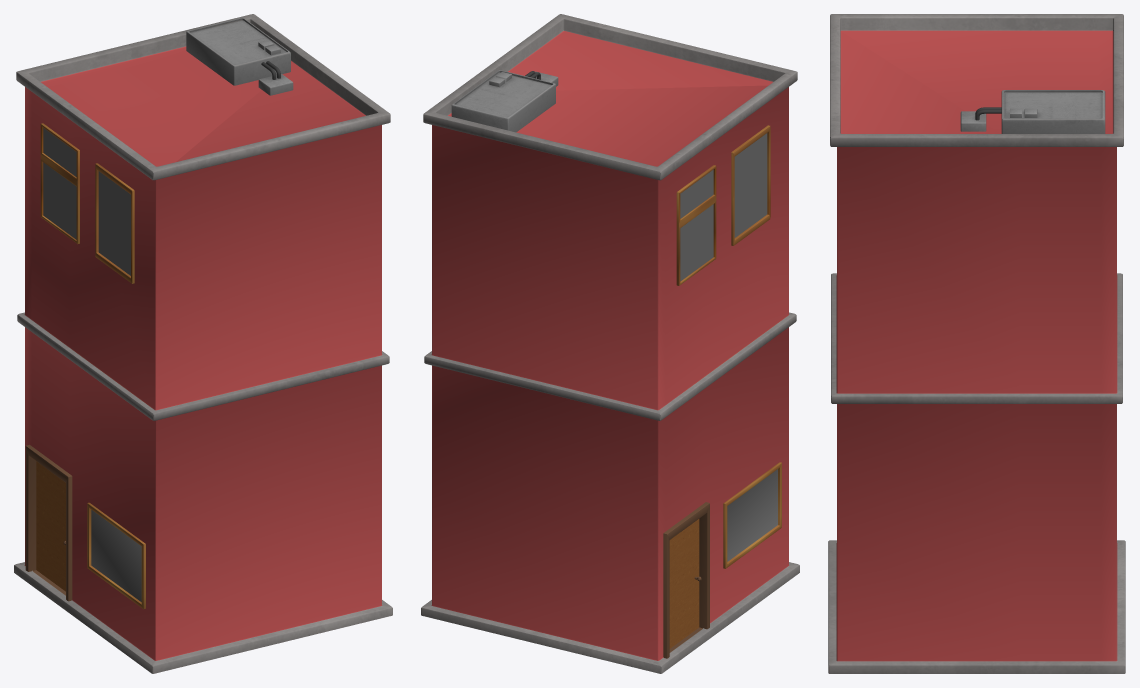
File: Casa Vertical Unity1.fbx
The picture shows the model from 3 angles, left to right: view 1: azimuth 30°, elevation 25°; view 2: azimuth 150°, elevation 25°; view 3: azimuth 270°, elevation 25°; orthographic projection. The views are drawn at different scales.
Visible parts, largest first — view 1: Cube; view 2: Cube; view 3: Cube.
Part boxes in pixels (x1,y1,x2,y2): Cube: (14,14,392,673); Cube: (421,14,799,673); Cube: (828,14,1125,673).
Size of the model in its own units: 1073 by 2175 by 1073.
